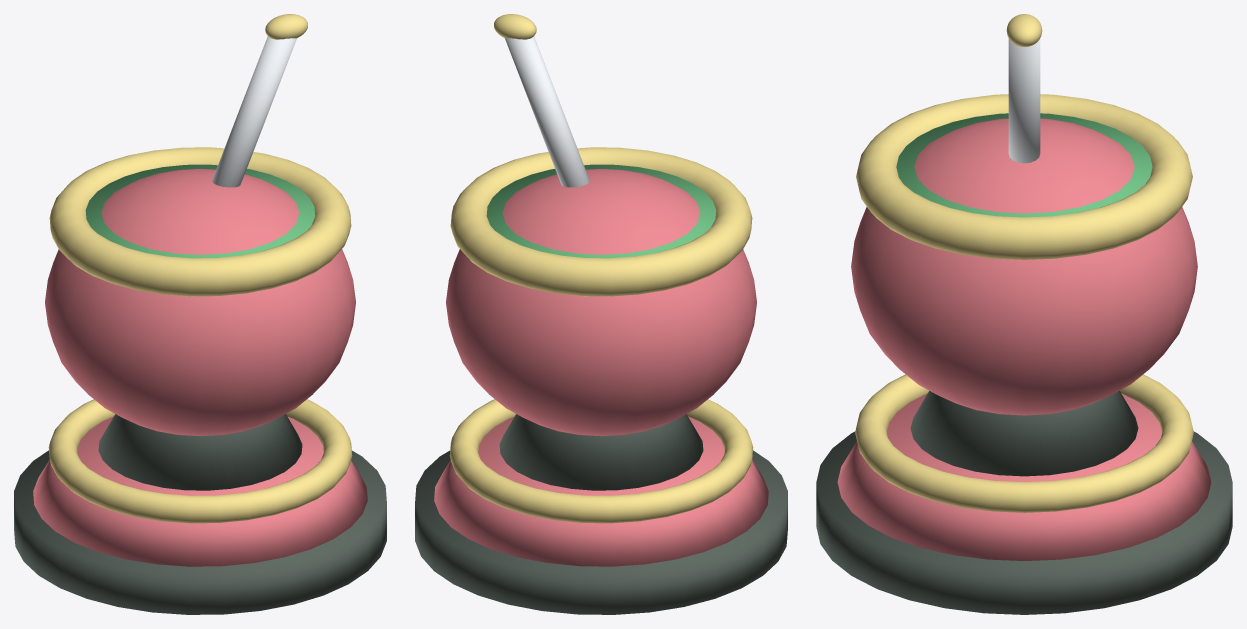
The model's file is pawn_cuia.glb.
3 views of the same model, side by side, from view 1: azimuth 30°, elevation 25°; view 2: azimuth 150°, elevation 25°; view 3: azimuth 270°, elevation 25° (orthographic). The views are drawn at different scales.
Visible parts, largest first — view 1: CuiaBelly, PedestalObsidian, PedestalColor, CuiaRim, PedestalGoldTrim, CuiaFoot, BombaStem, ErvaTop, BombaLip; view 2: CuiaBelly, PedestalObsidian, PedestalColor, CuiaRim, PedestalGoldTrim, CuiaFoot, BombaStem, ErvaTop, BombaLip; view 3: CuiaBelly, PedestalObsidian, PedestalColor, CuiaRim, PedestalGoldTrim, CuiaFoot, ErvaTop, BombaStem, BombaLip.
Boxes of the visible parts, <box> form: CuiaBelly: <box>45,169,355,436</box>; PedestalObsidian: <box>14,450,386,614</box>; PedestalColor: <box>33,416,367,566</box>; CuiaRim: <box>49,147,351,296</box>; PedestalGoldTrim: <box>48,399,352,523</box>; CuiaFoot: <box>98,414,302,490</box>; BombaStem: <box>212,36,296,187</box>; ErvaTop: <box>85,164,315,258</box>; BombaLip: <box>265,14,307,39</box>; CuiaBelly: <box>446,169,756,436</box>; PedestalObsidian: <box>415,450,787,614</box>; PedestalColor: <box>434,416,768,566</box>; CuiaRim: <box>450,147,752,296</box>; PedestalGoldTrim: <box>449,399,753,523</box>; CuiaFoot: <box>499,414,703,490</box>; BombaStem: <box>505,36,589,187</box>; ErvaTop: <box>486,164,716,258</box>; BombaLip: <box>494,14,536,39</box>; CuiaBelly: <box>851,118,1197,415</box>; PedestalObsidian: <box>816,431,1232,614</box>; PedestalColor: <box>837,393,1211,560</box>; CuiaRim: <box>856,94,1192,259</box>; PedestalGoldTrim: <box>855,374,1193,512</box>; CuiaFoot: <box>910,391,1138,476</box>; ErvaTop: <box>896,113,1152,217</box>; BombaStem: <box>1008,38,1040,163</box>; BombaLip: <box>1006,14,1042,46</box>.
Size of the model in its own units: 0.42 by 0.619 by 0.42.
